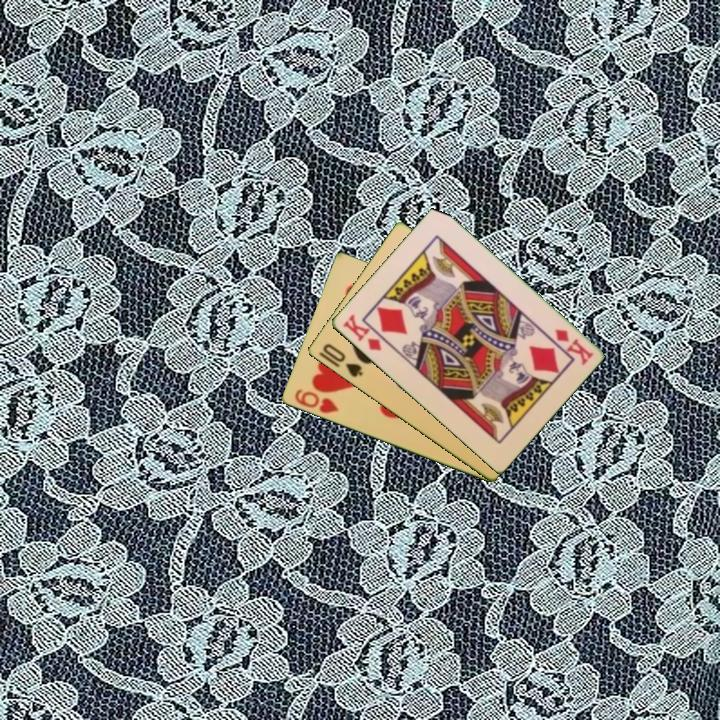10s: (319, 340, 366, 380)
6h: (291, 386, 341, 417)
Kd: (339, 311, 384, 354), (551, 325, 596, 368)
